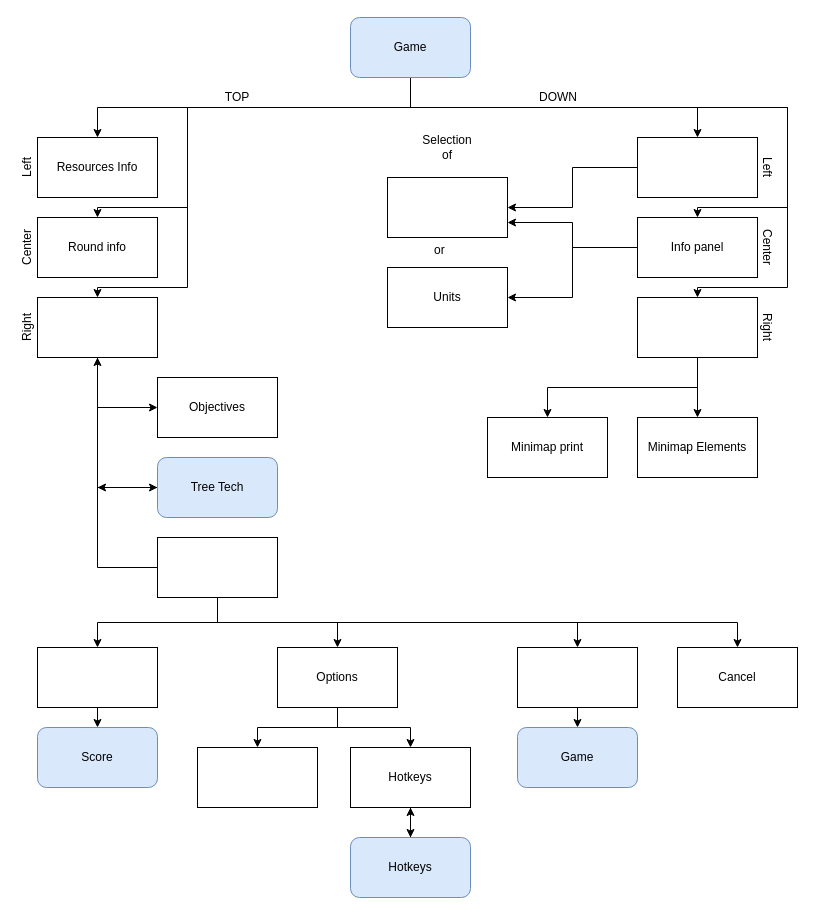
Some shapes in this 815 by 915 pixel diagram are drawn without their labels. The shapes that lost their labels are listed below. From the top down, each one's centre as x and y in pixels, then its label:
At pixel 697 167: "Panel Control/Action".
At pixel 447 207: "Sructures".
At pixel 97 327: "Menus".
At pixel 697 327: "Minimap".
At pixel 217 567: "Menu In-Game".
At pixel 97 677: "Quit Current Game".
At pixel 577 677: "Restart".
At pixel 257 777: "Elements Options".
